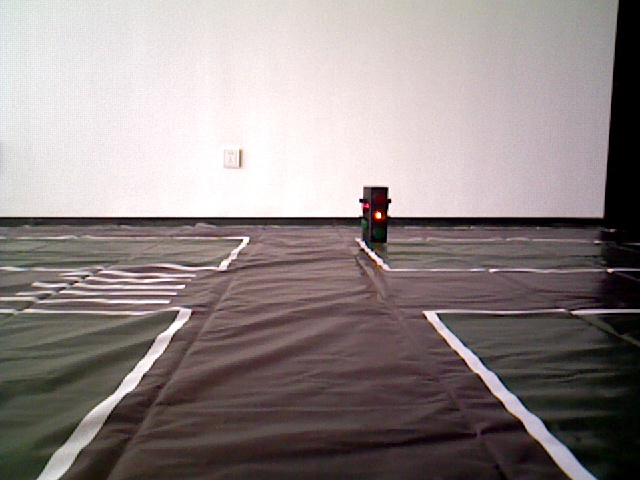yellow: (362, 184, 389, 244)
